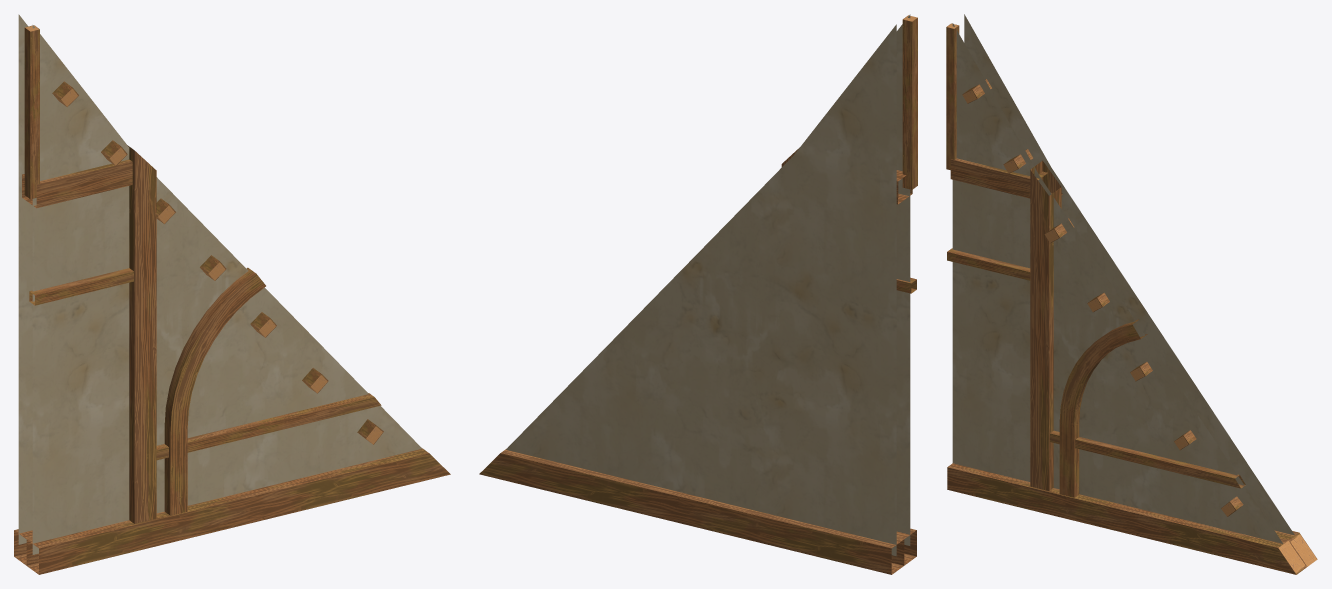
Rendered from Roof_Front_Brick8_Half_R.gltf.
3 renders of one model, left to right at view 1: azimuth 30°, elevation 25°; view 2: azimuth 150°, elevation 25°; view 3: azimuth 330°, elevation 25°, orthographic. The views are drawn at different scales.
Visible parts, largest first — view 1: Roof_Front_Brick8_Half_R; view 2: Roof_Front_Brick8_Half_R; view 3: Roof_Front_Brick8_Half_R.
Part boxes in pixels (x1,y1,x2,y2): Roof_Front_Brick8_Half_R: (14,14,450,574); Roof_Front_Brick8_Half_R: (479,14,917,574); Roof_Front_Brick8_Half_R: (946,14,1317,574).
Bounding box in the file's own units: 4.35 × 5.45 × 0.4896.
Materials: 2 (2 with a texture image).
